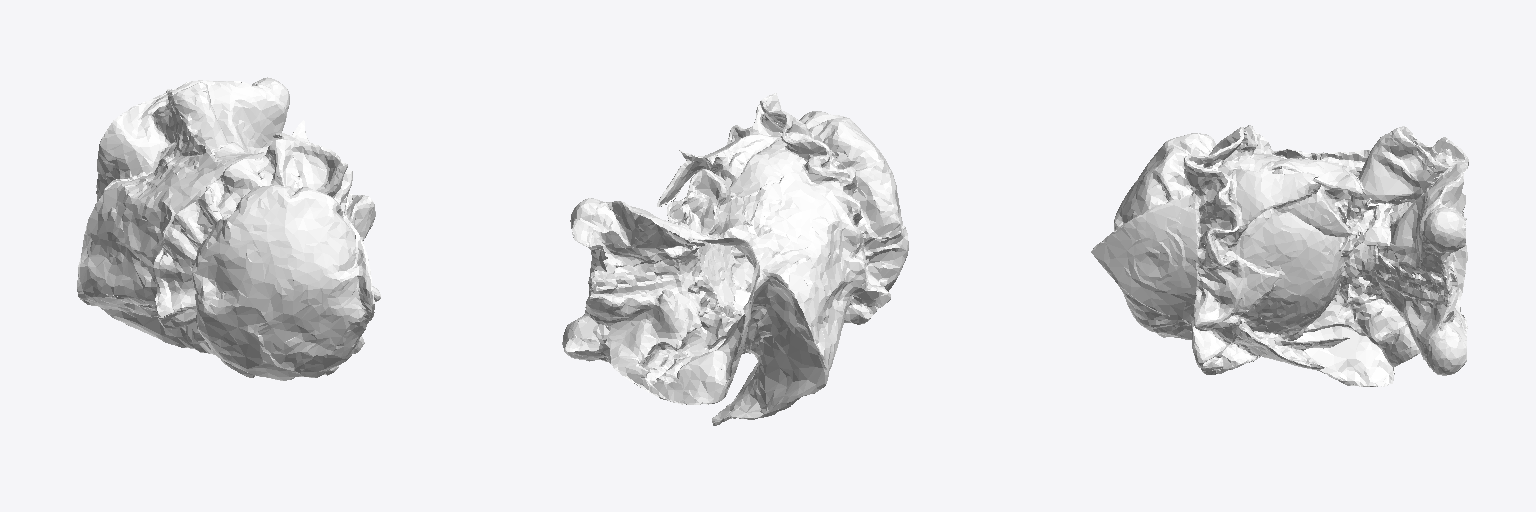
Rendered from UUfumo-OBJ-final-fix1_smooth.obj.
3 views of the same model, side by side, from view 1: azimuth 30°, elevation 25°; view 2: azimuth 150°, elevation 25°; view 3: azimuth 270°, elevation 25° (orthographic).
Visible parts, largest first — view 1: Model.001; view 2: Model.001; view 3: Model.001.
Boxes of the visible parts, <box> form: Model.001: <box>77,77,380,380</box>; Model.001: <box>562,93,908,425</box>; Model.001: <box>1091,125,1468,386</box>.
Size of the model in its own units: 17.26 by 17.87 by 23.65.